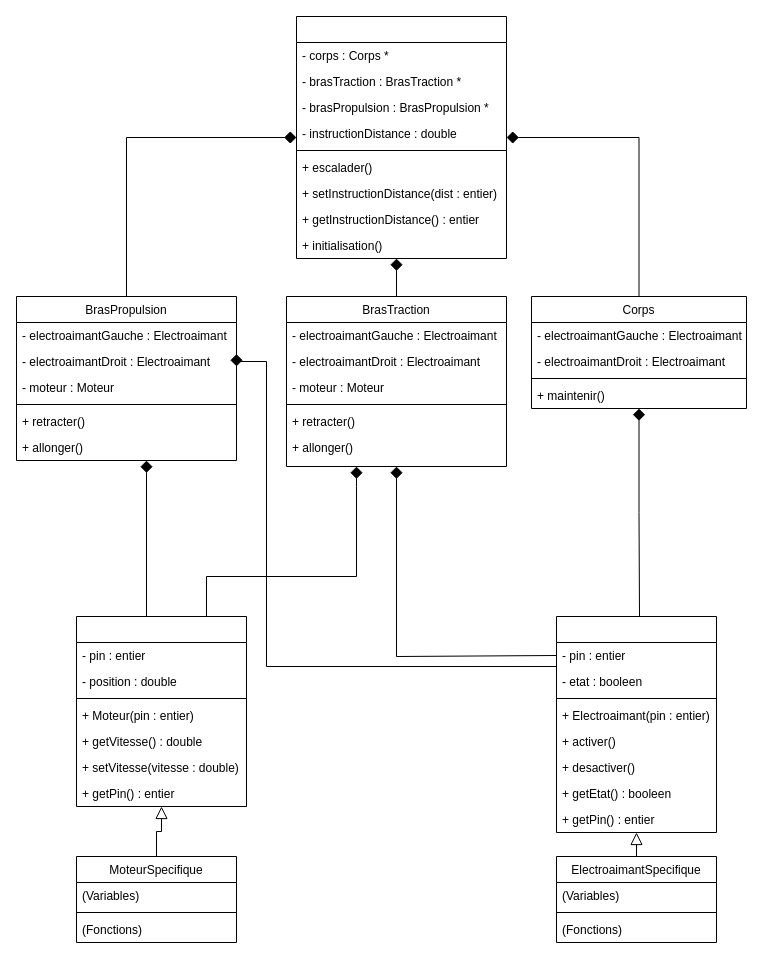
Image size: 763x959. Some labels were removed from this diagram. The box of each missing label's shape, as (x1, y1, x2, y2) in pixels:
Caterpullup: (296, 16, 506, 258)
Electroaimant (abstract): (556, 616, 716, 832)
Moteur (abstract): (76, 616, 246, 806)
